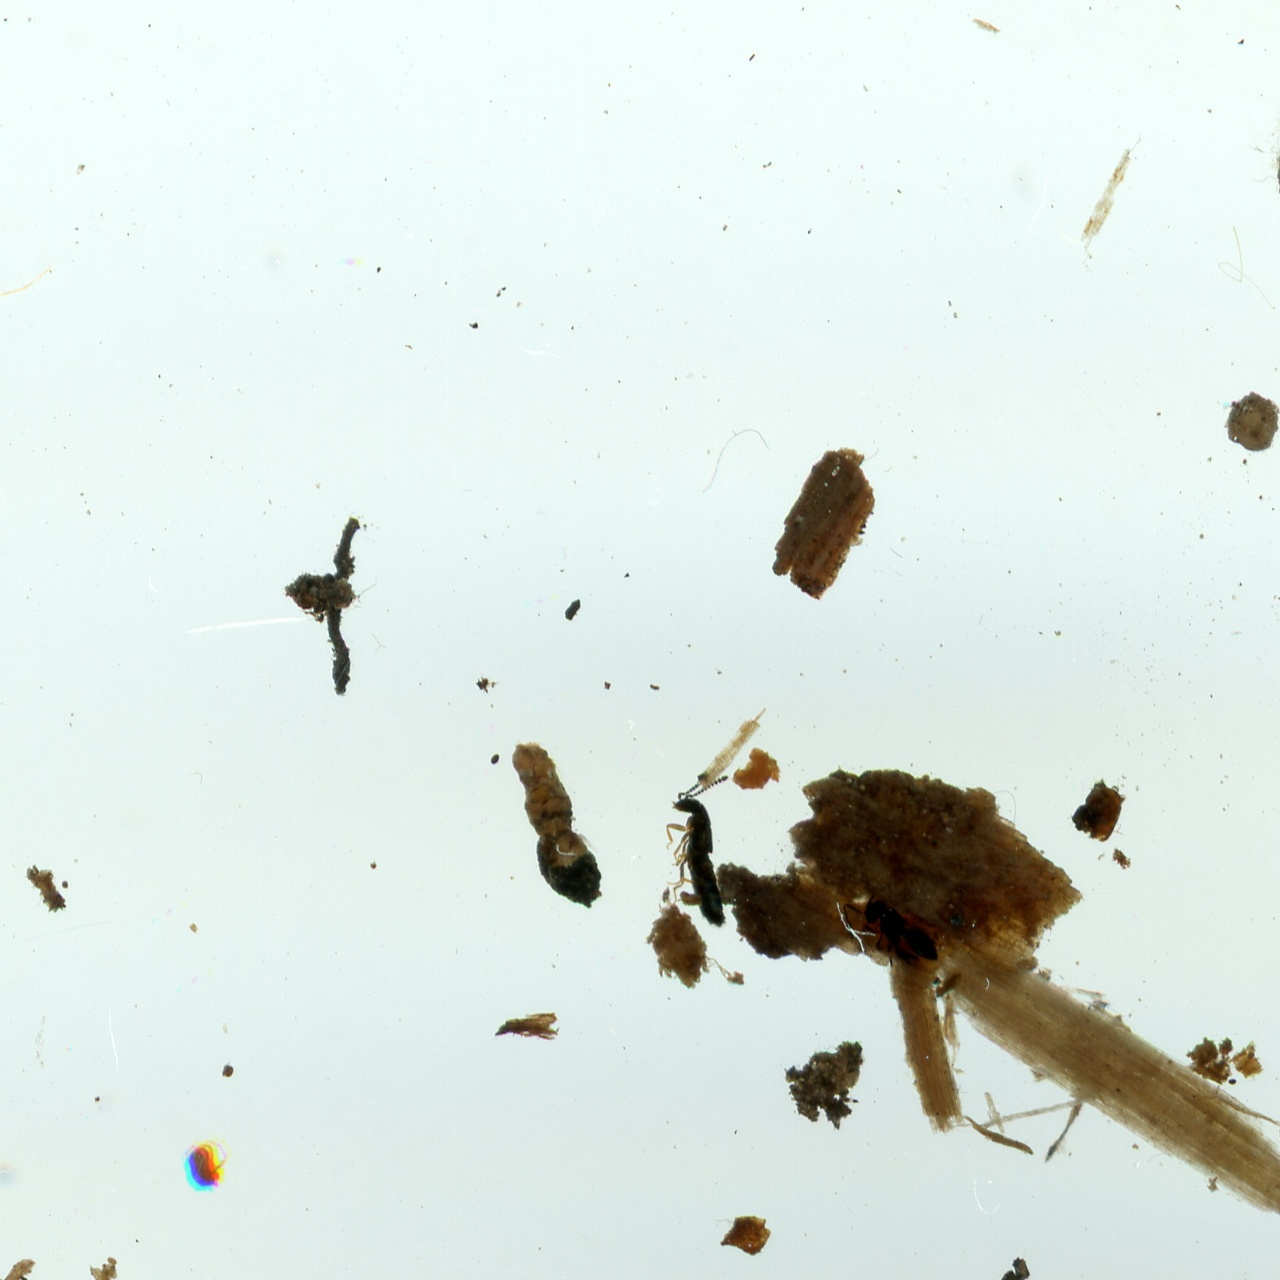arthropod: (830, 873, 953, 994), (662, 769, 734, 931), (181, 1138, 237, 1196)
